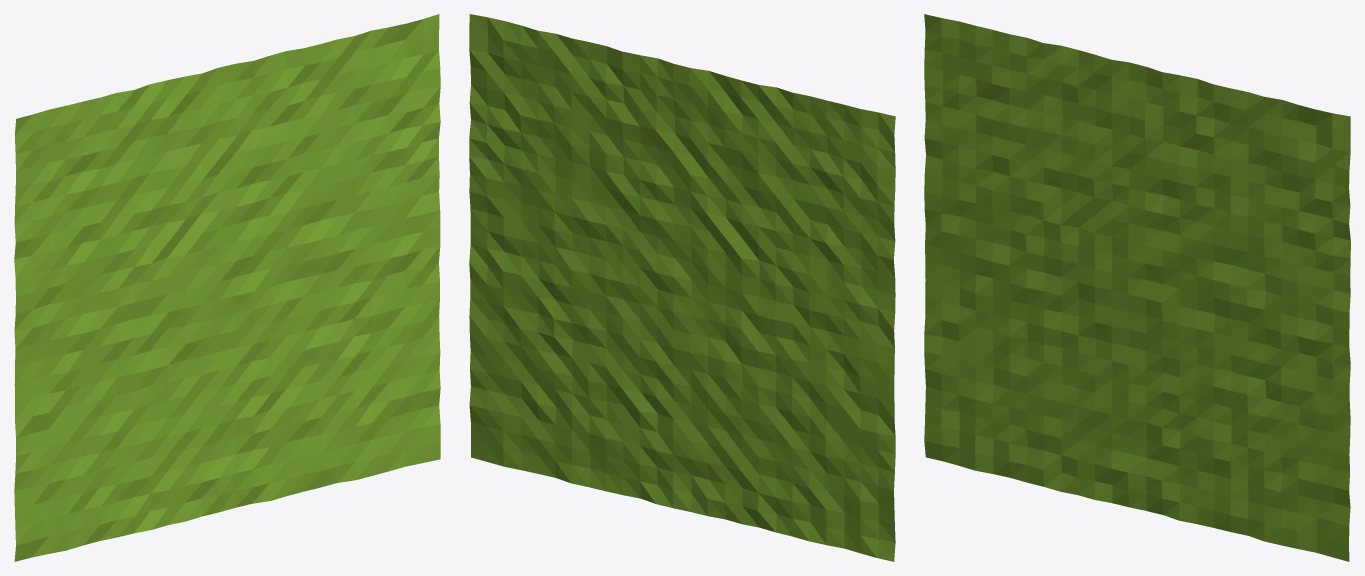
Rendered from flattrn.obj.
3 views of the same model, side by side, from view 1: azimuth 30°, elevation 25°; view 2: azimuth 150°, elevation 25°; view 3: azimuth 330°, elevation 25° (orthographic).
Parts seen in each view (by area): view 1: FlatTerrain; view 2: FlatTerrain; view 3: FlatTerrain.
Part boxes in pixels (left/top/right/bottom): FlatTerrain: left=14, top=14, right=440, bottom=561; FlatTerrain: left=469, top=14, right=895, bottom=561; FlatTerrain: left=924, top=14, right=1350, bottom=561.
Bounding box in the file's own units: 125 × 125 × 1.
